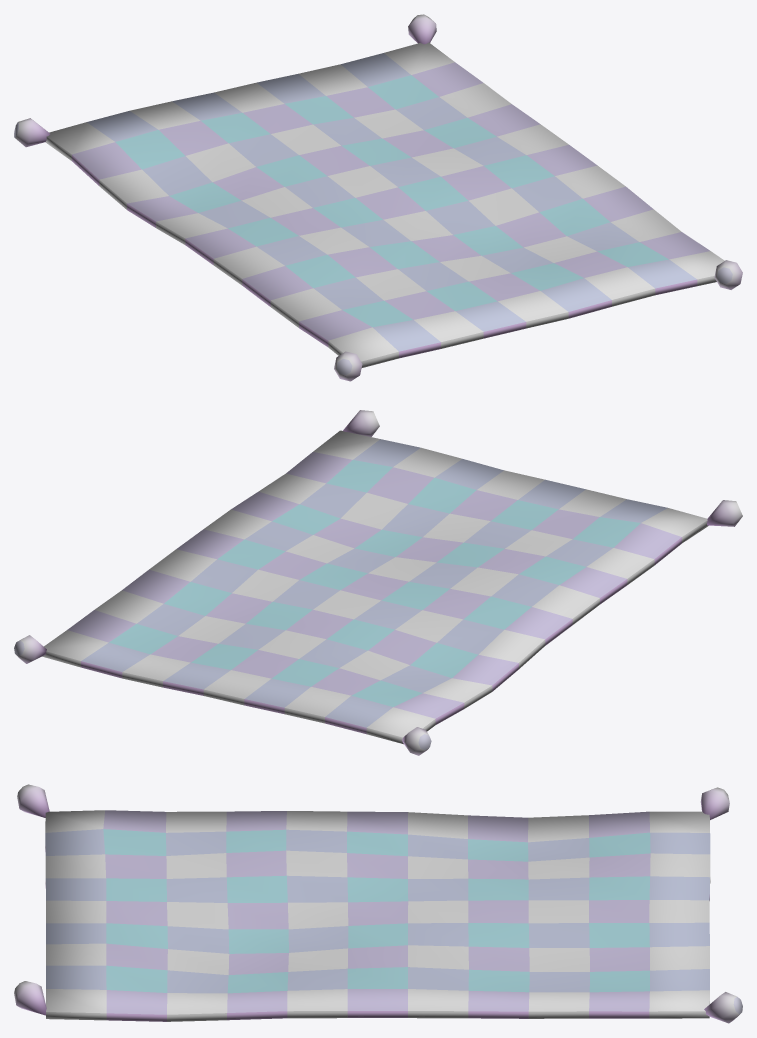
File: cutepack2023picnicquilt01 1.fbx
The picture shows the model from 3 angles, top to bottom: view 1: azimuth 30°, elevation 25°; view 2: azimuth 150°, elevation 25°; view 3: azimuth 270°, elevation 25°; orthographic projection. The views are drawn at different scales.
Parts seen in each view (by area): view 1: Sphere.289; view 2: Sphere.289; view 3: Sphere.289.
Boxes of the visible parts, <box> form: Sphere.289: <box>14,14,742,381</box>; Sphere.289: <box>14,410,742,755</box>; Sphere.289: <box>14,784,742,1023</box>.
Size of the model in its own units: 334 by 25.03 by 466.
